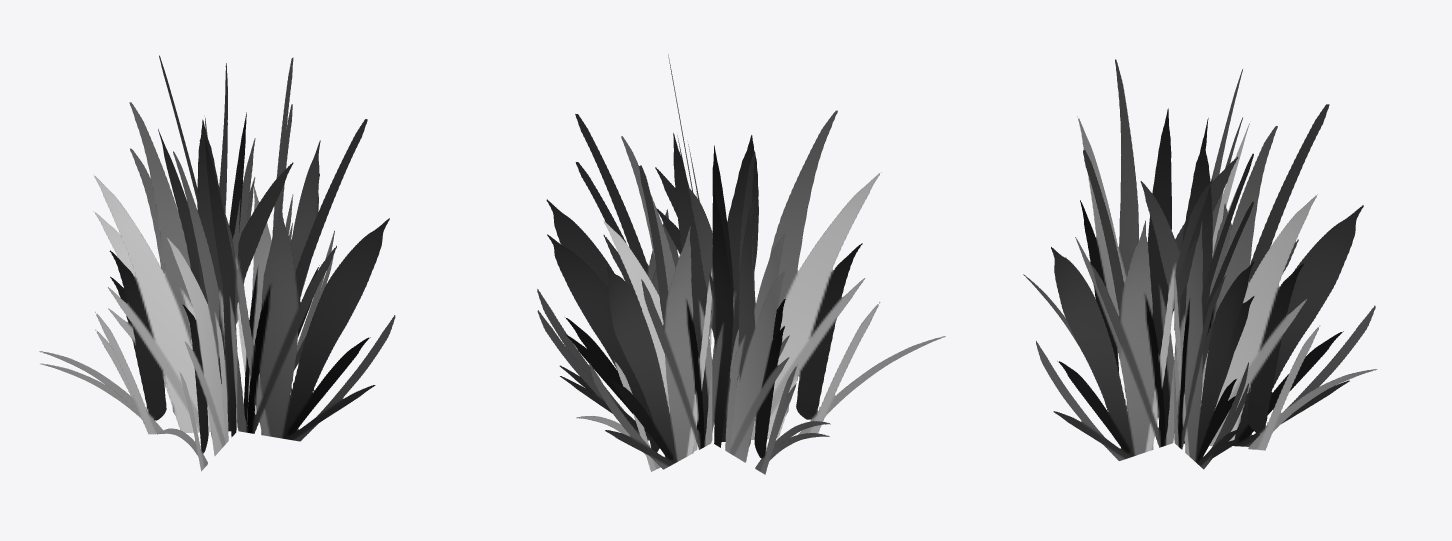
Rendered from Grass_2.fbx.
The picture shows the model from 3 angles, left to right: view 1: azimuth 30°, elevation 25°; view 2: azimuth 150°, elevation 25°; view 3: azimuth 270°, elevation 25°; orthographic projection. The views are drawn at different scales.
Parts seen in each view (by area): view 1: pPlane95; view 2: pPlane95; view 3: pPlane95.
Part boxes in pixels (bbox=[...]): pPlane95: bbox=[39, 55, 395, 471]; pPlane95: bbox=[537, 55, 945, 474]; pPlane95: bbox=[1023, 59, 1377, 469].
Bounding box in the file's own units: 44.54 × 39.53 × 46.38.
